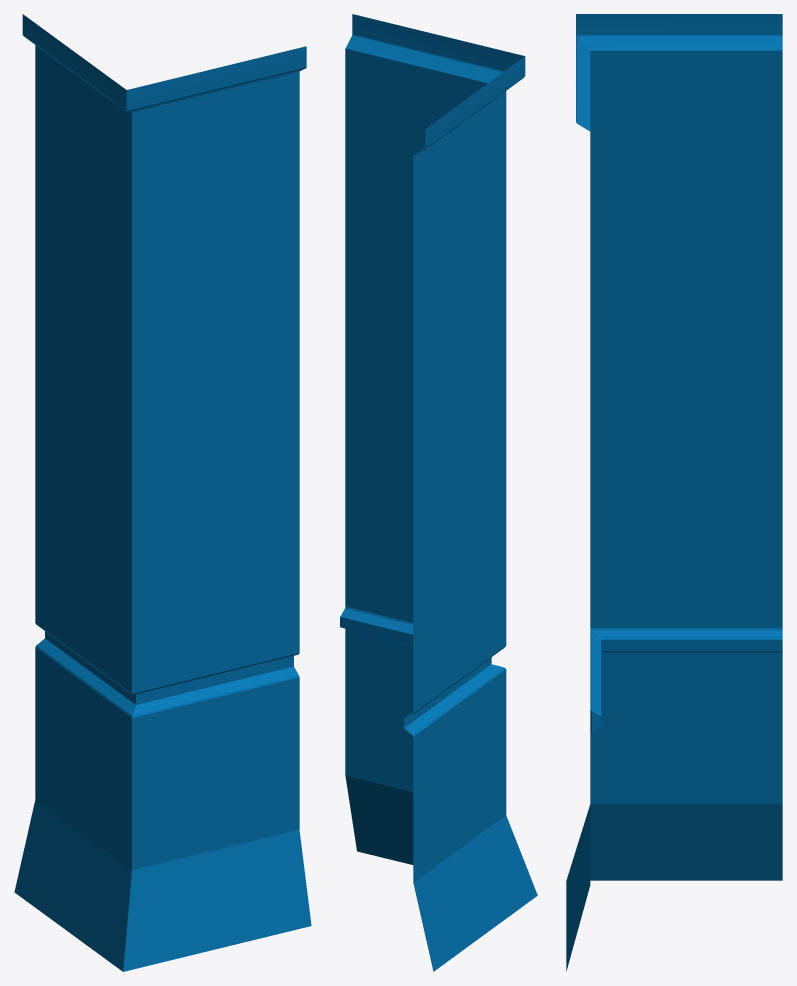
File: M_Wall_Convex_Corner_4x20.fbx
The picture shows the model from 3 angles, left to right: view 1: azimuth 30°, elevation 25°; view 2: azimuth 150°, elevation 25°; view 3: azimuth 270°, elevation 25°; orthographic projection. The views are drawn at different scales.
Parts seen in each view (by area): view 1: Wall_Convex_Corner_4x20; view 2: Wall_Convex_Corner_4x20; view 3: Wall_Convex_Corner_4x20.
Part boxes in pixels (x1,y1,x2,y2): Wall_Convex_Corner_4x20: [14, 14, 311, 971]; Wall_Convex_Corner_4x20: [340, 14, 537, 971]; Wall_Convex_Corner_4x20: [566, 14, 782, 971].
Bounding box in the file's own units: 450 × 2000 × 450.
